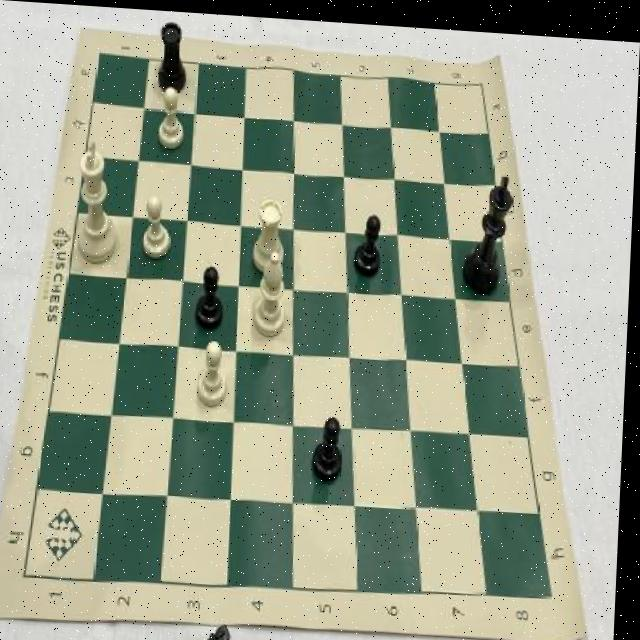black-bishop: (462, 161, 519, 290)
black-knight: (314, 405, 351, 481), (194, 258, 231, 329), (354, 204, 386, 274)
black-queen: (153, 14, 191, 94)
black-rook: (252, 244, 294, 337)
white-bishop: (72, 133, 128, 270)
white-knight: (195, 334, 235, 407), (142, 188, 178, 261), (155, 81, 190, 153)
white-queen: (256, 192, 291, 274)
